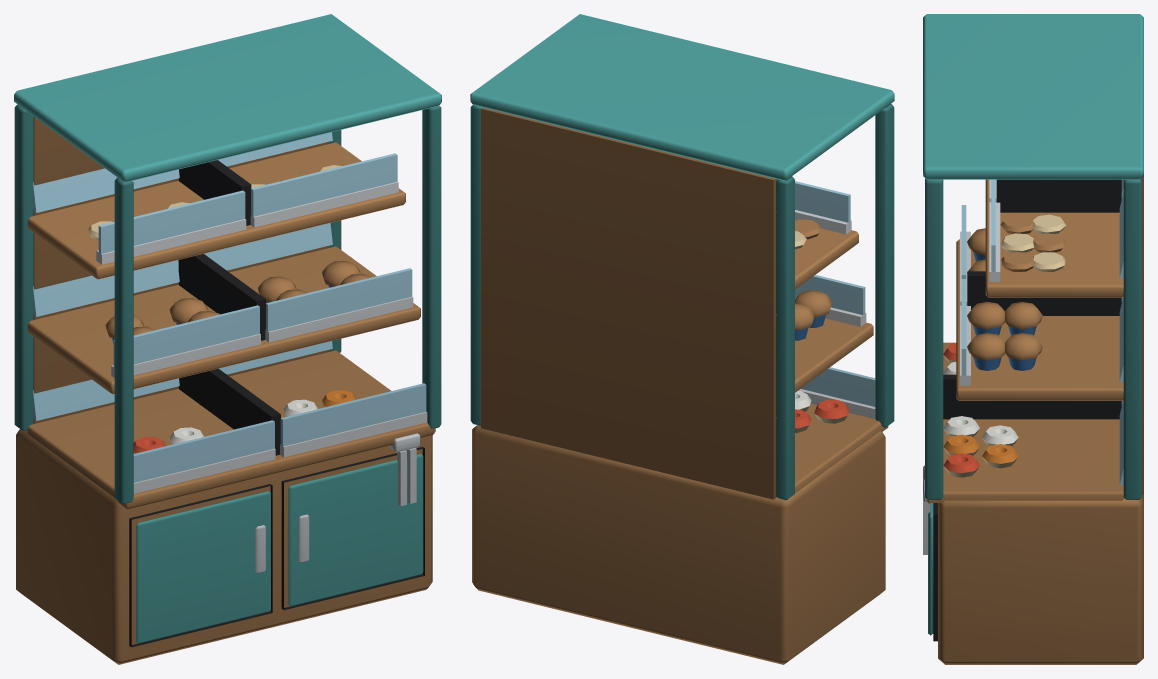
File: BakeryCase_SelfServe_10_Stocked.glb
3 views of the same model, side by side, from view 1: azimuth 30°, elevation 25°; view 2: azimuth 150°, elevation 25°; view 3: azimuth 270°, elevation 25° (orthographic).
Parts seen in each view (by area): view 1: SM_BakeryCase_SelfServe_10_Stocked; view 2: SM_BakeryCase_SelfServe_10_Stocked; view 3: SM_BakeryCase_SelfServe_10_Stocked.
Boxes of the visible parts, x1=… form: SM_BakeryCase_SelfServe_10_Stocked: x1=14, y1=14, x2=441, y2=664; SM_BakeryCase_SelfServe_10_Stocked: x1=470, y1=14, x2=894, y2=664; SM_BakeryCase_SelfServe_10_Stocked: x1=923, y1=14, x2=1143, y2=664.
Bounding box in the file's own units: 1 × 1.5 × 0.6.
1 material, 1 textured.
